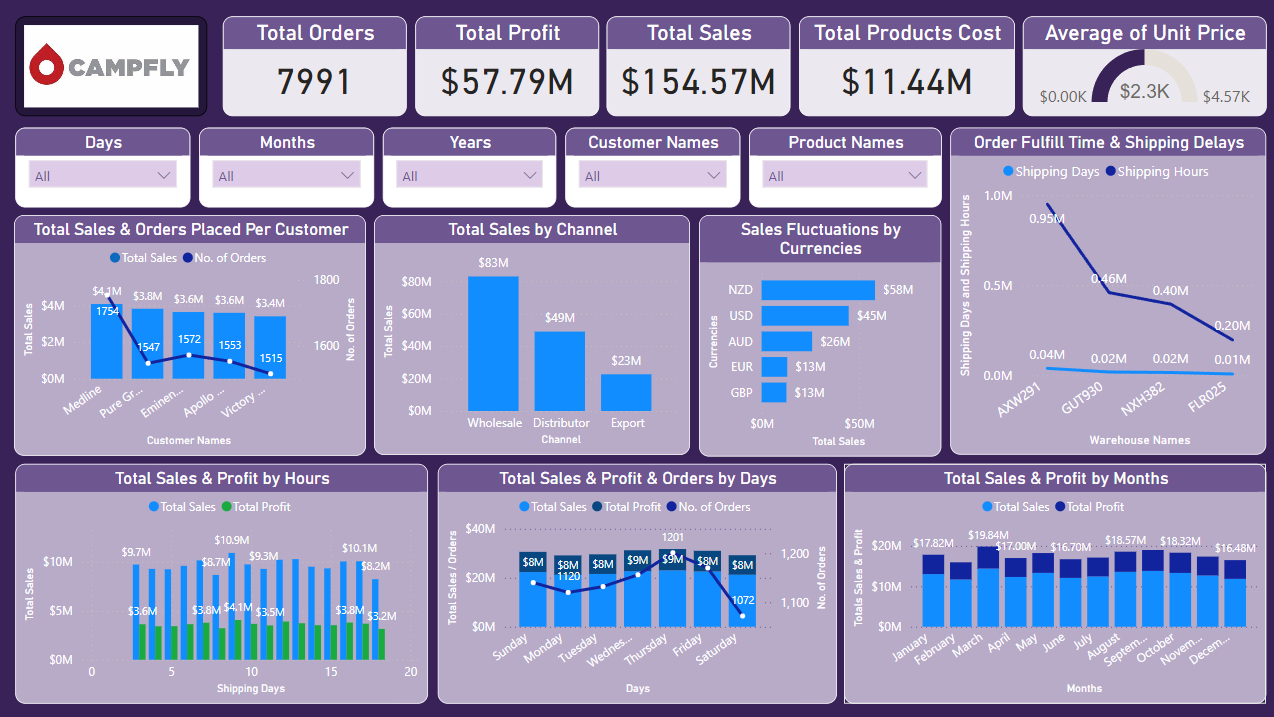

What the dashboard file says about the page in this screenshot:
{"tool":"powerbi","page":{"name":"Campfly 1","canvas":[1280,720],"ordinal":0},"visuals":[{"type":"card","title":"Total Sales","fields":{"Values":["Sum(Sales Orders.Total Revenue)"]},"box":[608,16,184,100],"z":0},{"type":"card","title":"Total Products Cost","fields":{"Values":["Sum(Sales Orders.Total Unit Cost)"]},"box":[800,16,216,100],"z":1000},{"type":"gauge","fields":{"Y":["Avg(Sales Orders.Unit Price)"]},"box":[1024,16,244,100],"z":2000},{"type":"card","title":"Total Profit","fields":{"Values":["Sum(Sales Orders.Profit)"]},"box":[416,16,184,100],"z":3000},{"type":"card","title":"Total Orders","fields":{"Values":["CountNonNull(Sales Orders.OrderNumber)"]},"box":[224,16,184,100],"z":4000},{"type":"image","box":[16,16,192,100],"z":5000},{"type":"clusteredColumnChart","title":"Total Sales & Profit by Hours","fields":{"Category":["Sales Orders.Hours"],"Y":["Sum(Sales Orders.Total Revenue)","Sum(Sales Orders.Profit)"]},"box":[16.3,464,412.8,240],"z":6000},{"type":"lineStackedColumnComboChart","title":"Total Sales & Profit & Orders by Days","fields":{"Category":["Sales Orders.Day Name"],"Y":["Sum(Sales Orders.Total Revenue)","Sum(Sales Orders.Profit)"],"Y2":["CountNonNull(Sales Orders.OrderNumber)"]},"box":[438.4,464,398.8,240],"z":7000},{"type":"slicer","title":"Days","fields":{"Values":["Sales Orders.Day Name"]},"box":[16.2,127.5,175,80],"z":8000},{"type":"slicer","title":"Months","fields":{"Values":["Sales Orders.Month Name"]},"box":[200,127.5,175,80],"z":9000},{"type":"slicer","title":"Years","fields":{"Values":["Sales Orders.Year"]},"box":[383.8,127.5,173.8,80],"z":10000},{"type":"columnChart","title":"Total Sales & Profit by Months","fields":{"Category":["Sales Orders.Month Name"],"Y":["Sum(Sales Orders.Total Revenue)","Sum(Sales Orders.Profit)"]},"box":[845,463.8,422.5,240],"z":11000},{"type":"lineClusteredColumnComboChart","title":"Total Sales & Orders Placed Per Customer","fields":{"Category":["Customers.Customer Names"],"Y":["Sum(Sales Orders.Total Revenue)"],"Y2":["Sum(Sales Orders.Order Quantity)"]},"box":[15.1,215.1,352.3,240.7],"z":12000},{"type":"slicer","title":"Customer Names","fields":{"Values":["Customers.Customer Names"]},"box":[566.2,127.5,175,80],"z":13000},{"type":"clusteredColumnChart","title":"Total Sales by Channel","fields":{"Category":["Sales Orders.Channel"],"Y":["Sum(Sales Orders.Total Revenue)"]},"box":[375,215,316,240],"z":14000},{"type":"clusteredBarChart","title":"Sales Fluctuations by Currencies","fields":{"Category":["Sales Orders.Currency Code"],"Y":["Sum(Sales Orders.Total Revenue)"]},"box":[700,215,242,241.2],"z":15000},{"type":"lineChart","title":"Order Fulfill Time & Shipping Delays","fields":{"Category":["Sales Orders.Warehouse Code"],"Y":["Sum(Sales Orders.Shipping Days)","Sum(Sales Orders.Shipping Hours)"]},"box":[951.2,127.5,316.2,327.5],"z":16000},{"type":"slicer","title":"Product Names","fields":{"Values":["Products.Product Name"]},"box":[750,127.5,192.5,80],"z":17000}]}

Visuals, with their boxes in screenshot pixels (x1, y1, x2, y2), scaled from the page's 1280x720 canvas onto the 1274x717 screenshot:
"Total Sales" card: <region>605, 16, 788, 116</region>
"Total Products Cost" card: <region>796, 16, 1011, 116</region>
gauge - Avg(Sales Orders.Unit Price): <region>1019, 16, 1262, 116</region>
"Total Profit" card: <region>414, 16, 597, 116</region>
"Total Orders" card: <region>223, 16, 406, 116</region>
image: <region>16, 16, 207, 116</region>
"Total Sales & Profit by Hours" clusteredColumnChart: <region>16, 462, 427, 701</region>
"Total Sales & Profit & Orders by Days" lineStackedColumnComboChart: <region>436, 462, 833, 701</region>
"Days" slicer: <region>16, 127, 190, 207</region>
"Months" slicer: <region>199, 127, 373, 207</region>
"Years" slicer: <region>382, 127, 555, 207</region>
"Total Sales & Profit by Months" columnChart: <region>841, 462, 1262, 701</region>
"Total Sales & Orders Placed Per Customer" lineClusteredColumnComboChart: <region>15, 214, 366, 454</region>
"Customer Names" slicer: <region>564, 127, 738, 207</region>
"Total Sales by Channel" clusteredColumnChart: <region>373, 214, 688, 453</region>
"Sales Fluctuations by Currencies" clusteredBarChart: <region>697, 214, 938, 454</region>
"Order Fulfill Time & Shipping Delays" lineChart: <region>947, 127, 1261, 453</region>
"Product Names" slicer: <region>746, 127, 938, 207</region>
